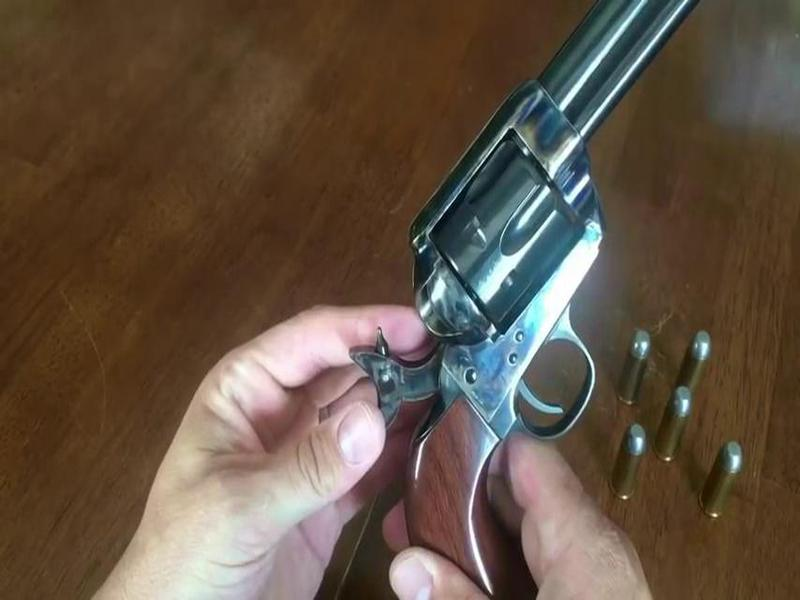Revolver: (347, 14, 614, 460)
